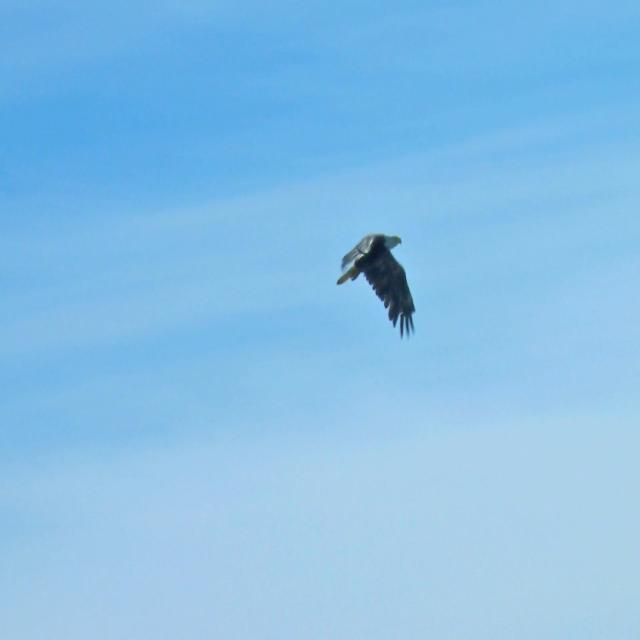bird: (332, 213, 422, 350)
